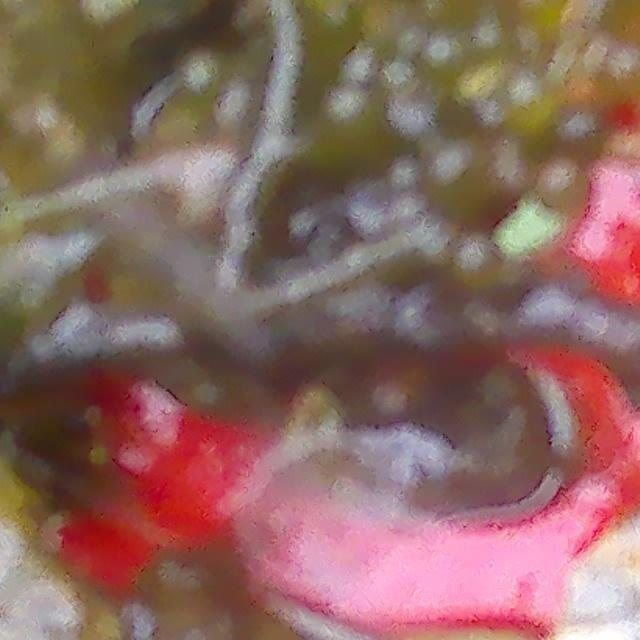SeaGrape: (419, 148, 495, 213), (325, 91, 385, 148), (454, 239, 509, 295), (554, 115, 607, 162), (534, 166, 585, 212)
